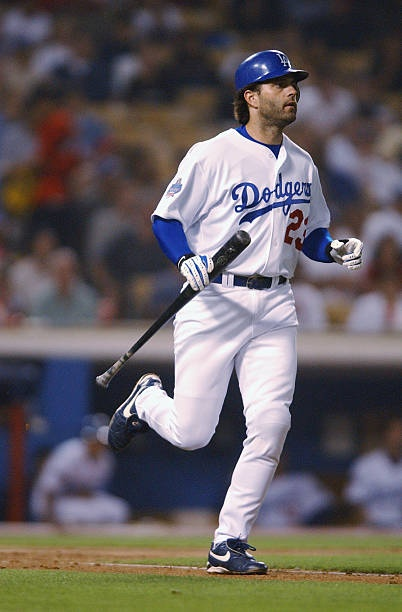bita: (99, 234, 251, 388)
